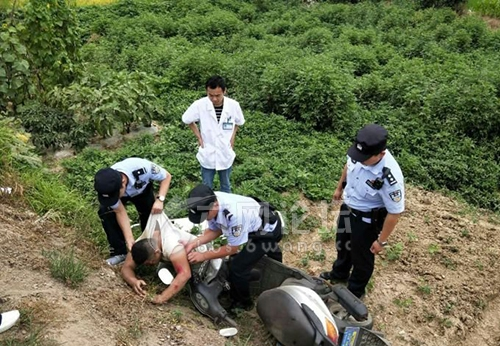fall: (112, 214, 232, 314)
